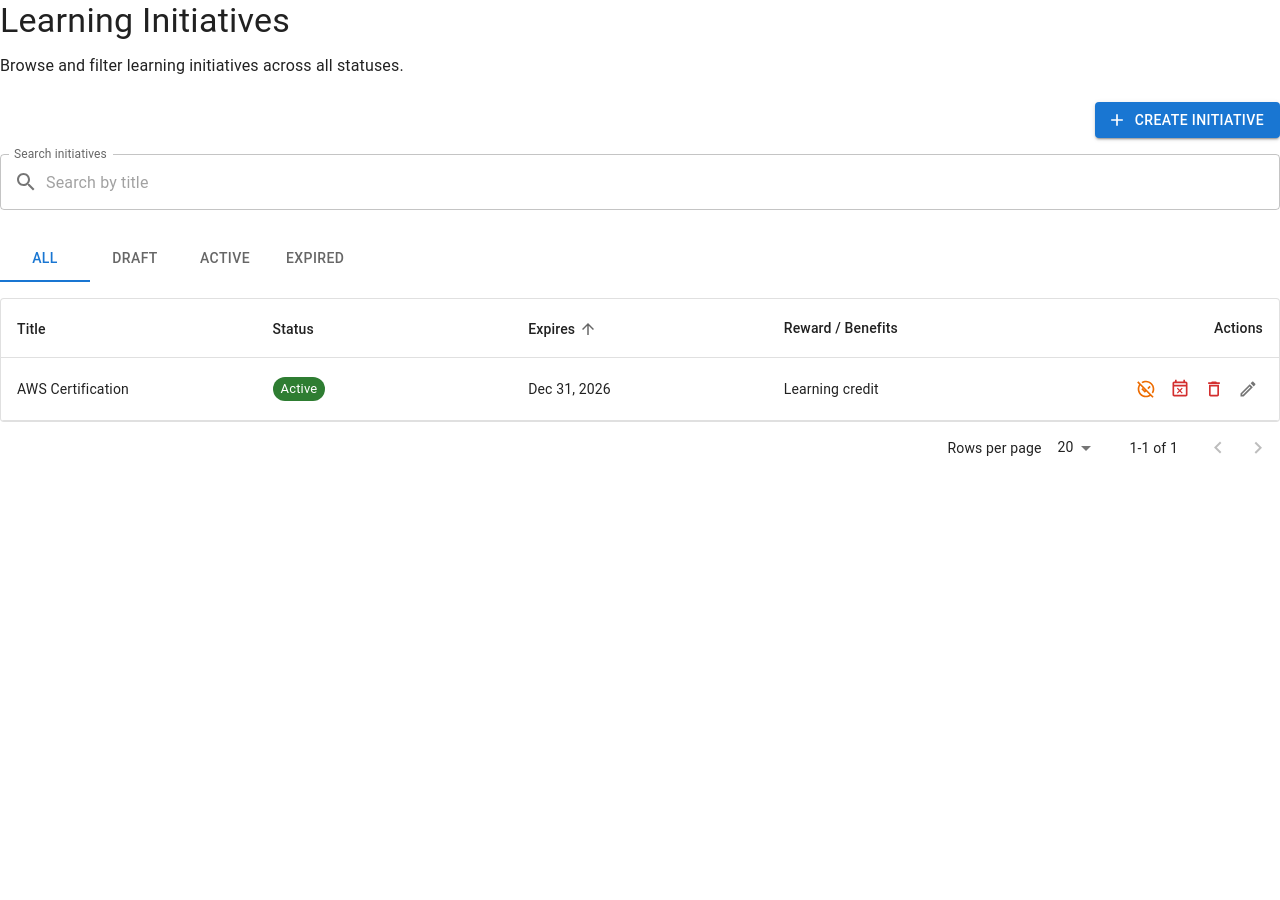
it: InitiativeListPage › opens create dialog from admin toolbar and refreshes list after success
Click the button "Create Initiative".
click(1187, 120)  # box [1095,102,1279,138]
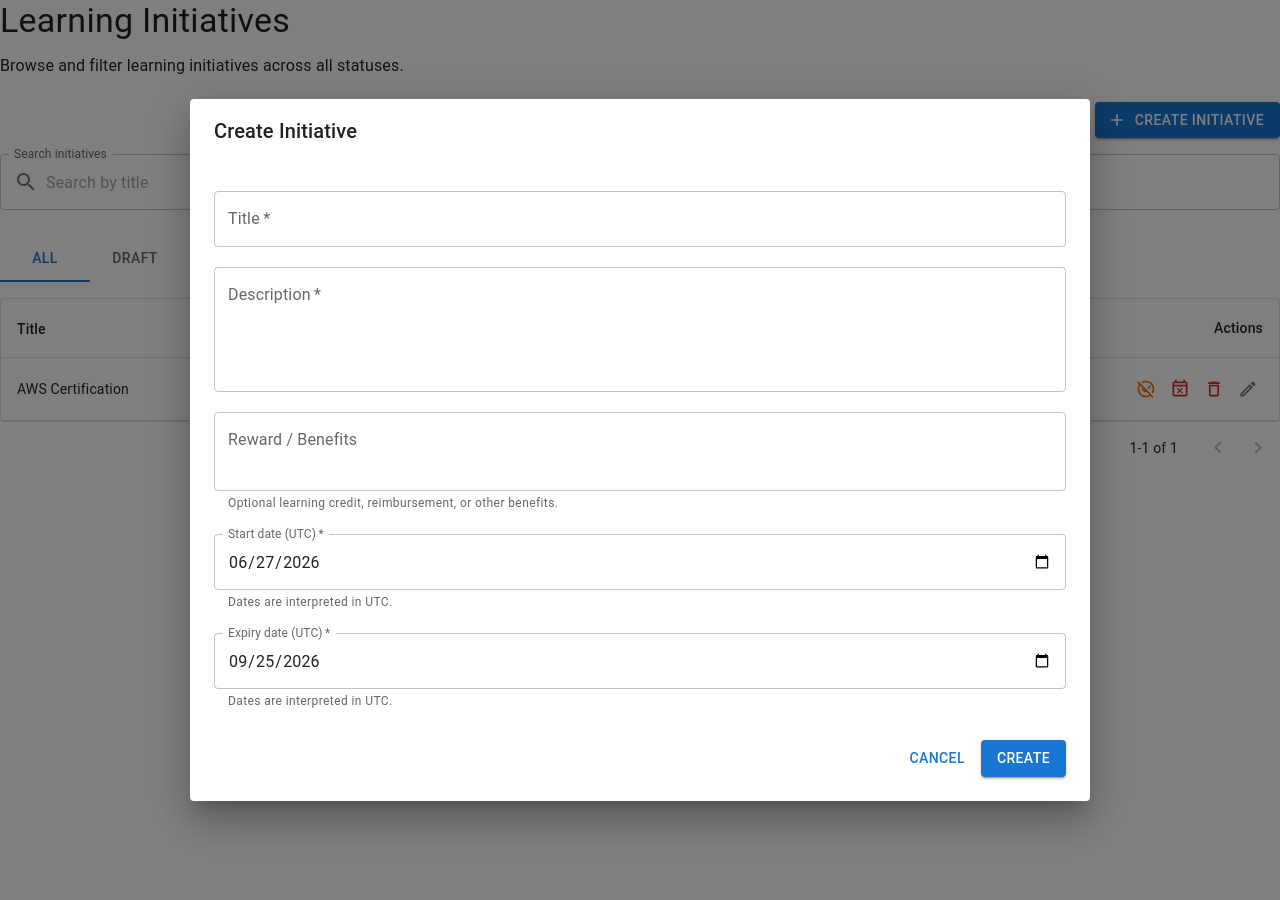
Now the dialog "Create Initiative" is shown, box [190,99,1090,801]
Type "New Initiative" into the field labelled "Title *".
click(640, 219); type("New Initiative")  # box [214,191,1066,247]
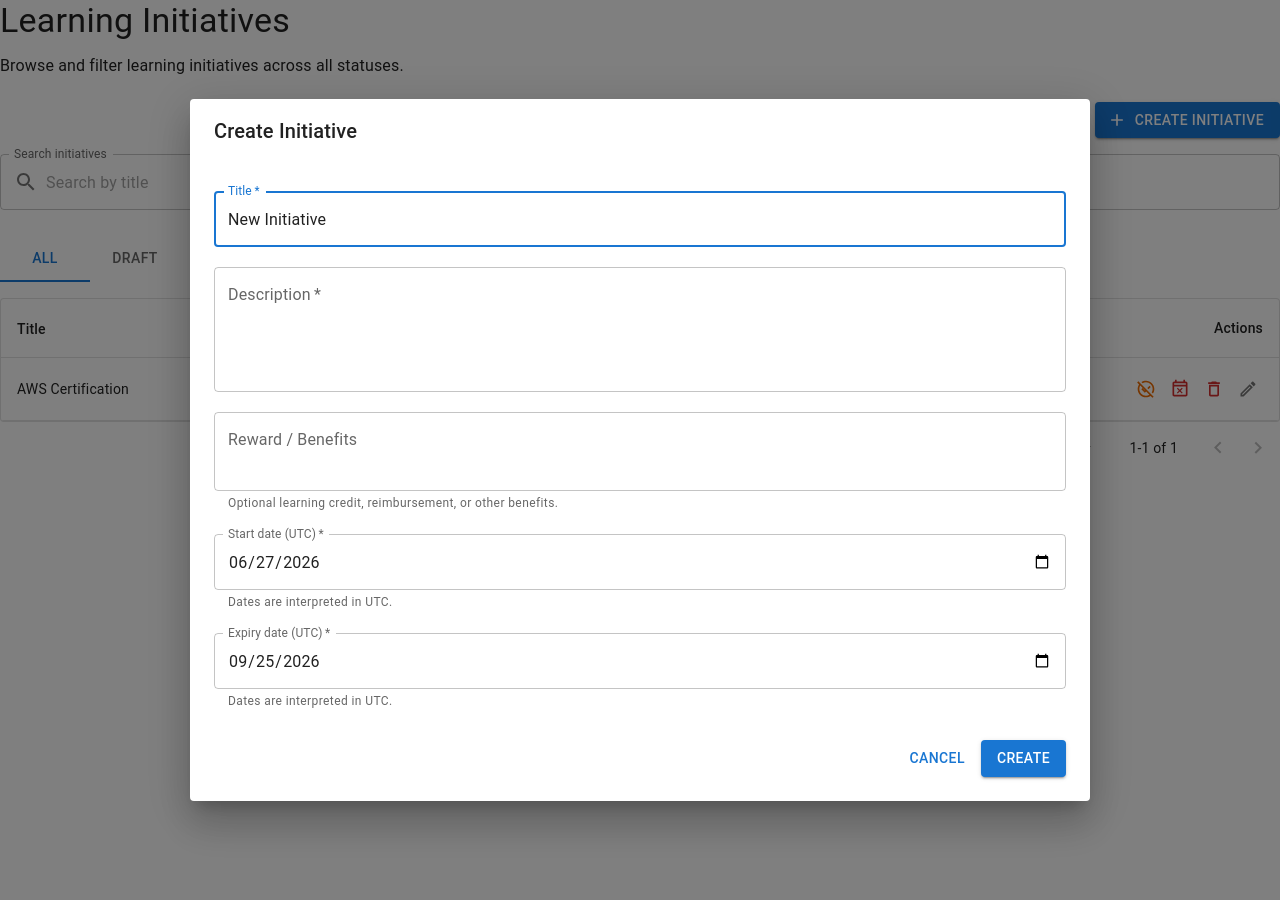
Type "New certification program" into the text box labelled "Description *".
click(640, 330); type("New certification program")  # box [228,284,1052,376]
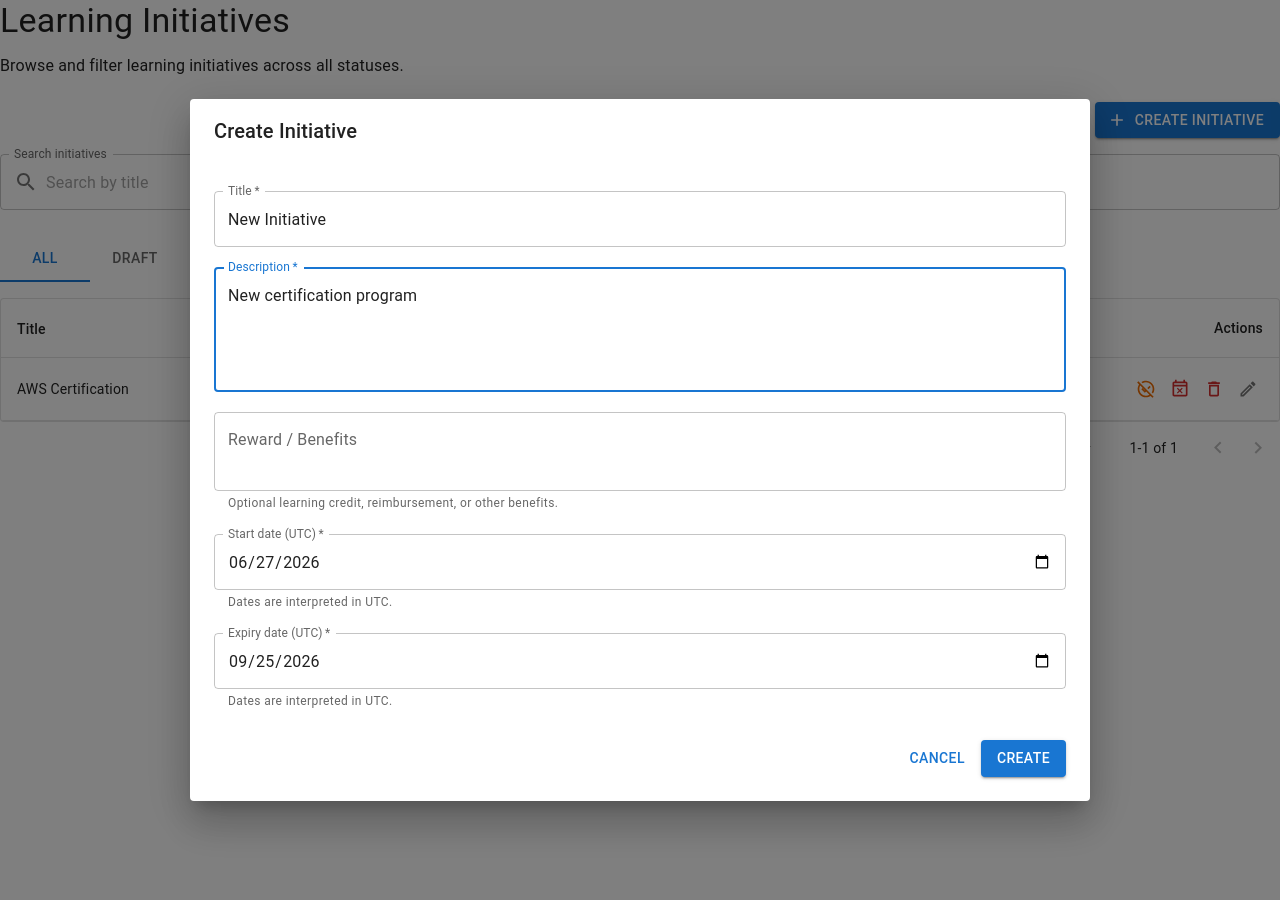
Click the button "Create".
click(1023, 758)  # box [981,740,1066,777]
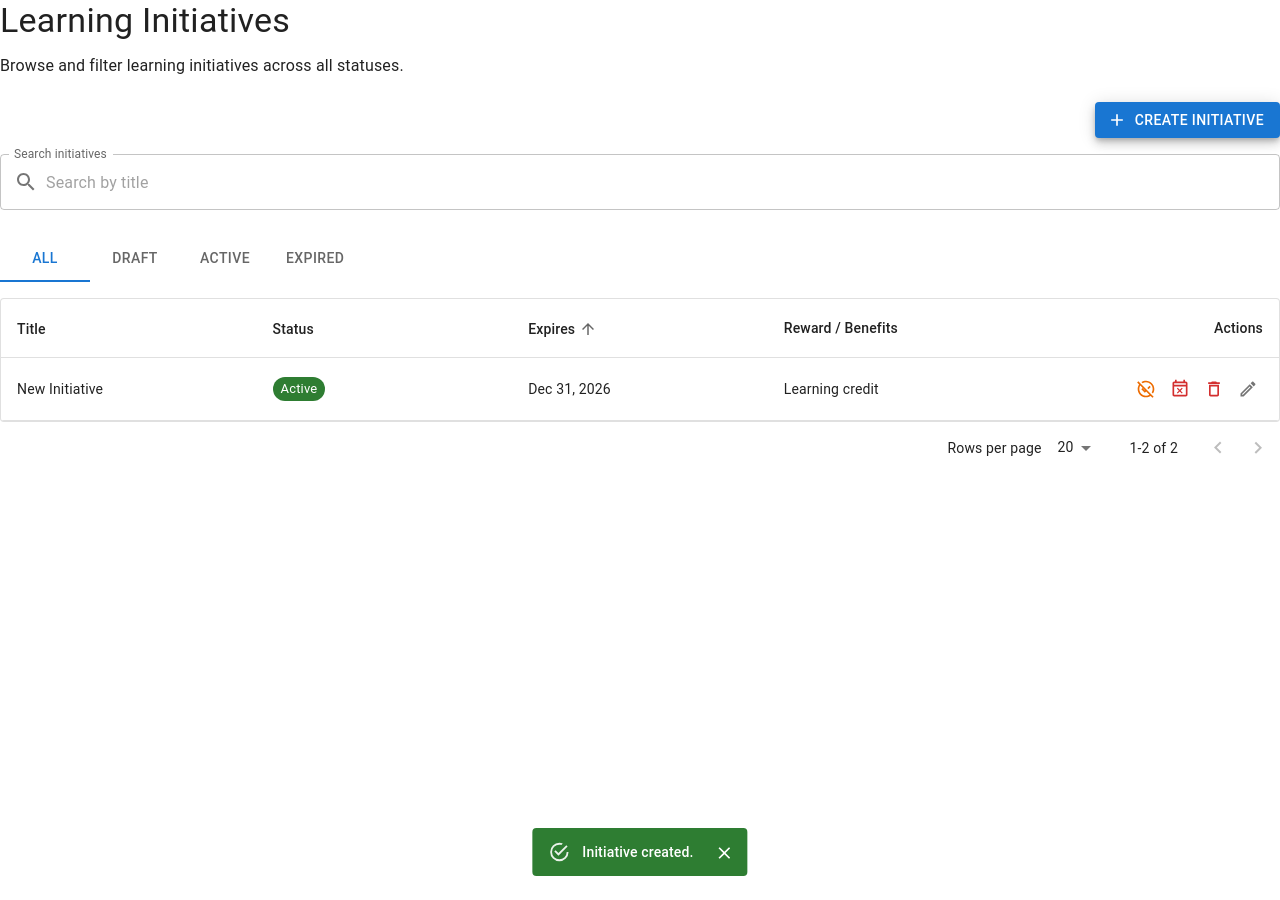
Now the text "Initiative created." is shown, box [582,844,694,860]
